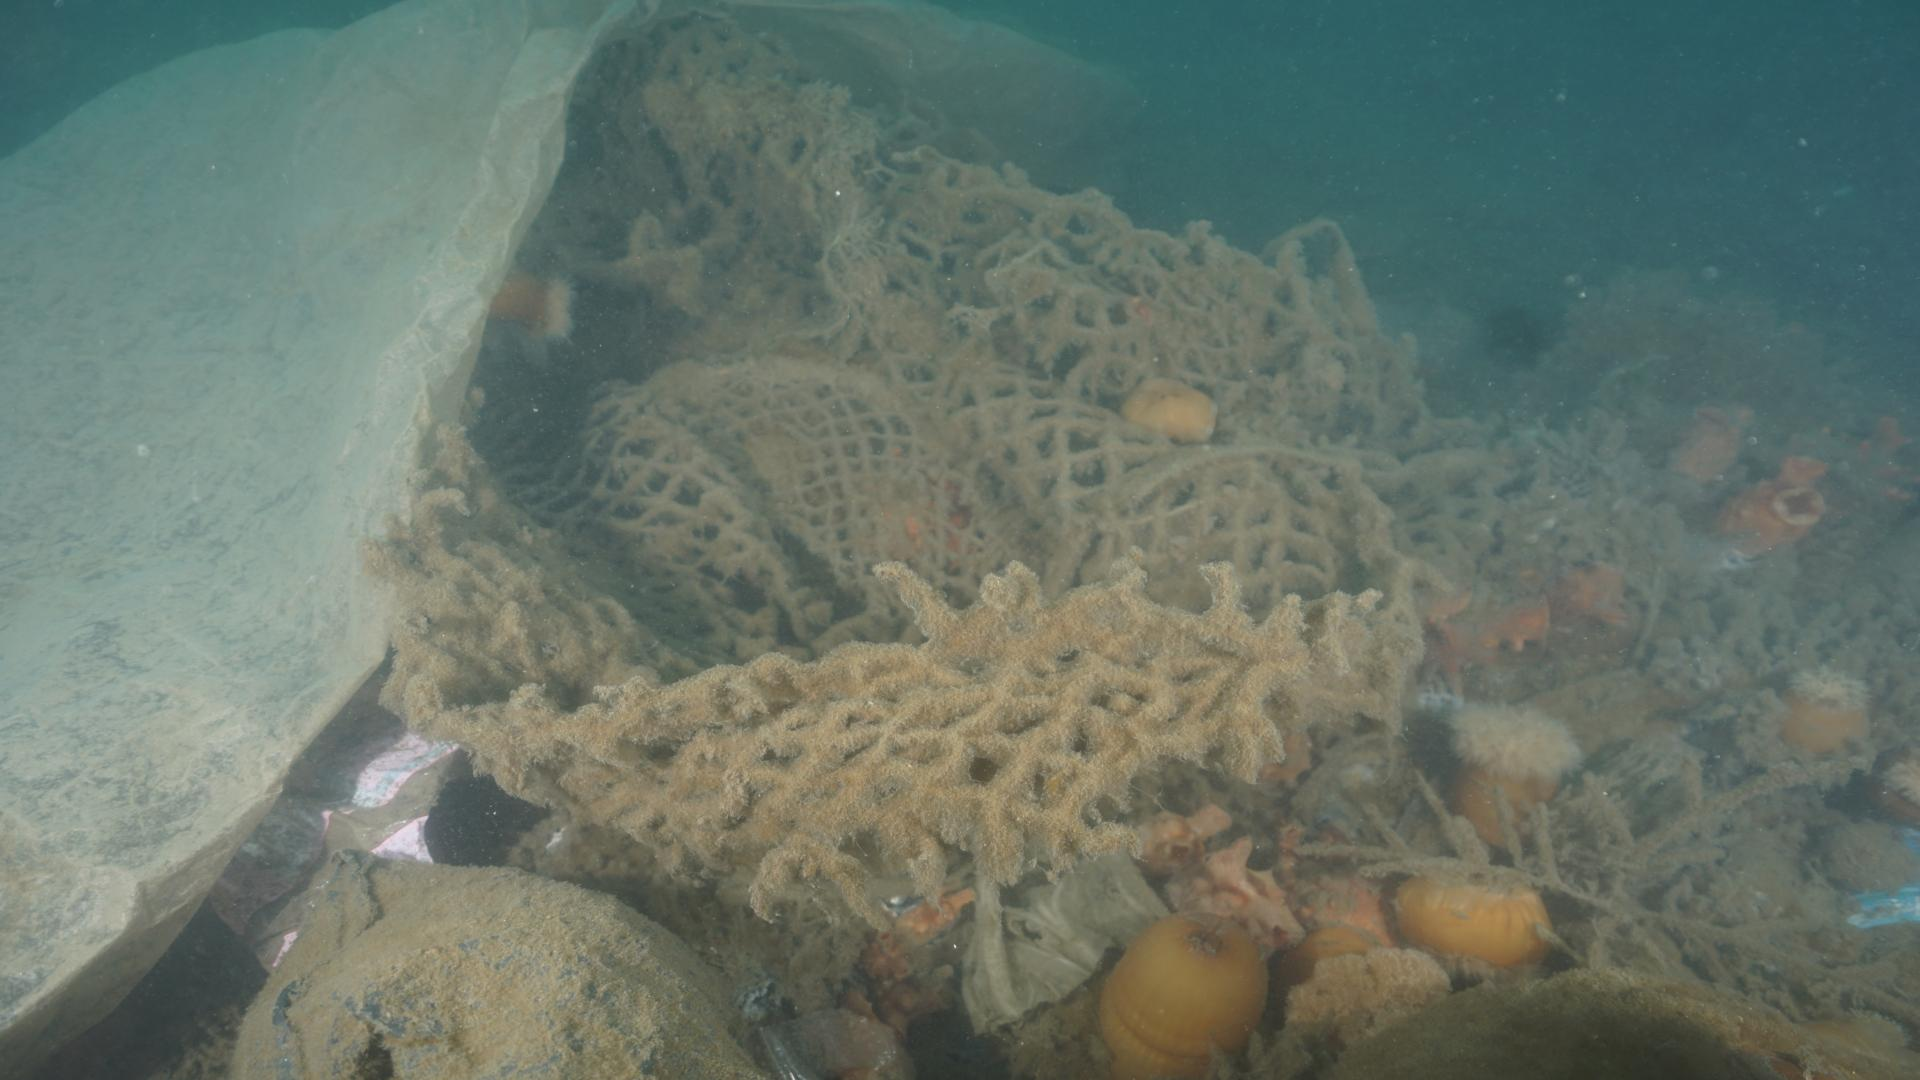fish net: (353, 0, 1447, 942)
